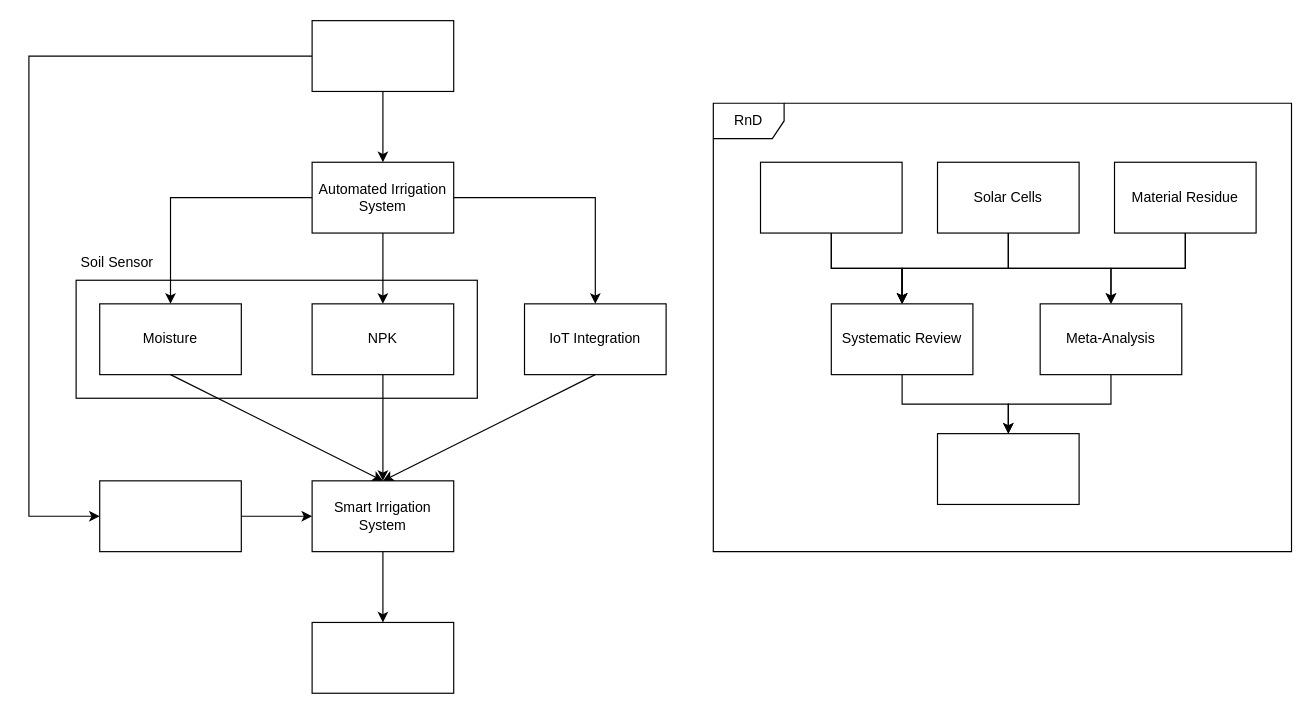
The diagram is 1312 pixels wide and 714 high, and some of its shapes have lost their labels. Here are the shapes that lost their labels. From the top down, the box of each, then its label:
(311, 19, 454, 91): Solar Panel
(759, 161, 902, 233): Solar Energy Materials
(936, 432, 1079, 504): Independent Power Producer
(99, 480, 241, 552): Power Supply
(311, 621, 454, 693): Self-sustaining Irrigation System
